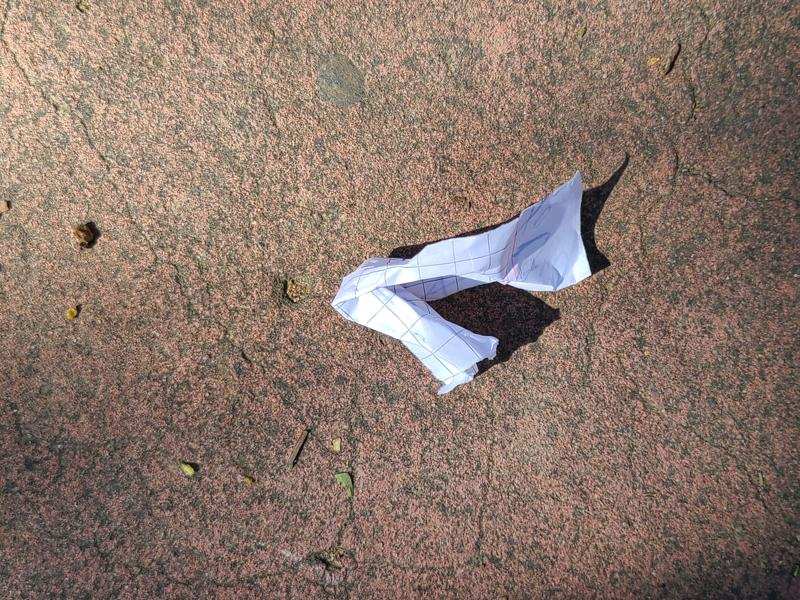papel: (331, 173, 609, 396)
